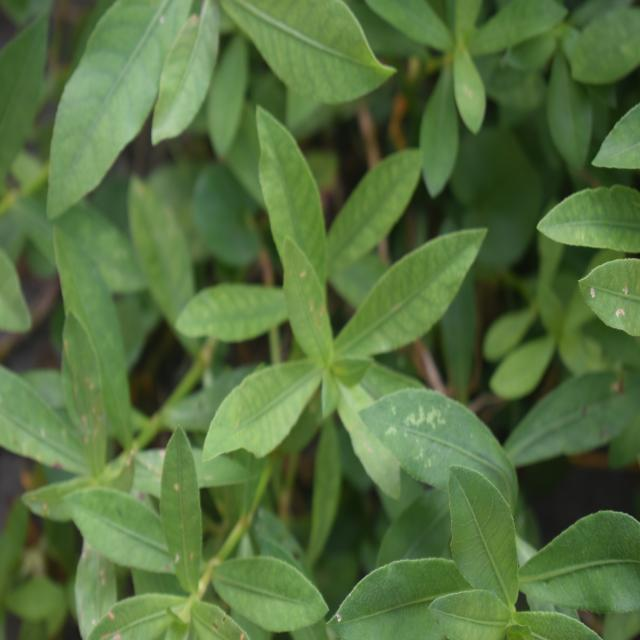Alligatorweed: (182, 138, 468, 542)
